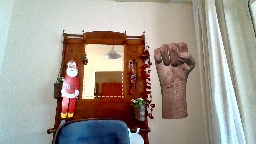Pugno: (150, 42, 196, 85)
